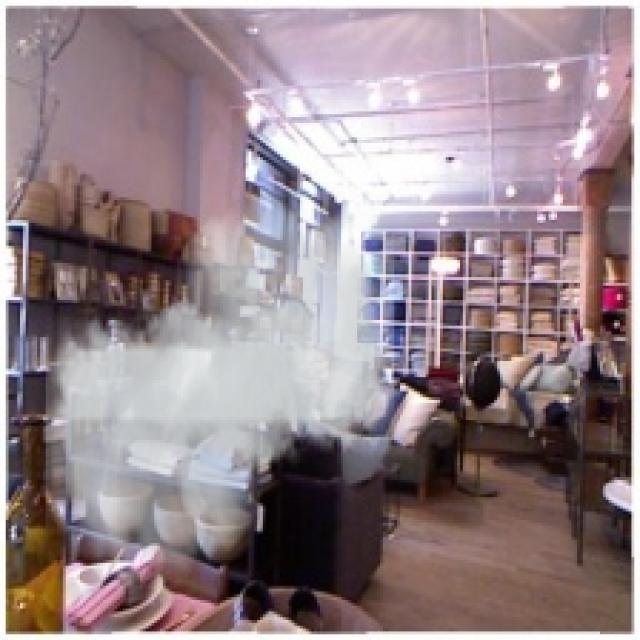Smoke: (46, 180, 394, 589)
